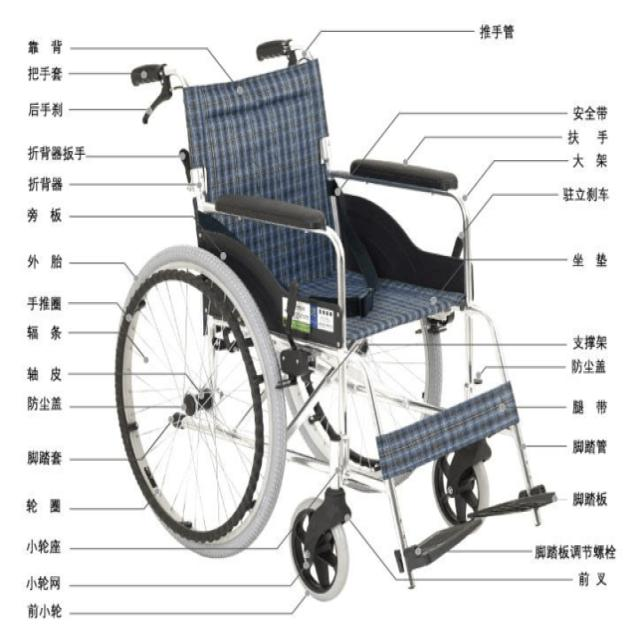wheelchairs: (109, 36, 559, 604)
